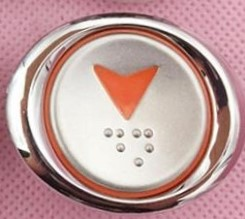Braille: (132, 128, 153, 168), (105, 128, 125, 167)
